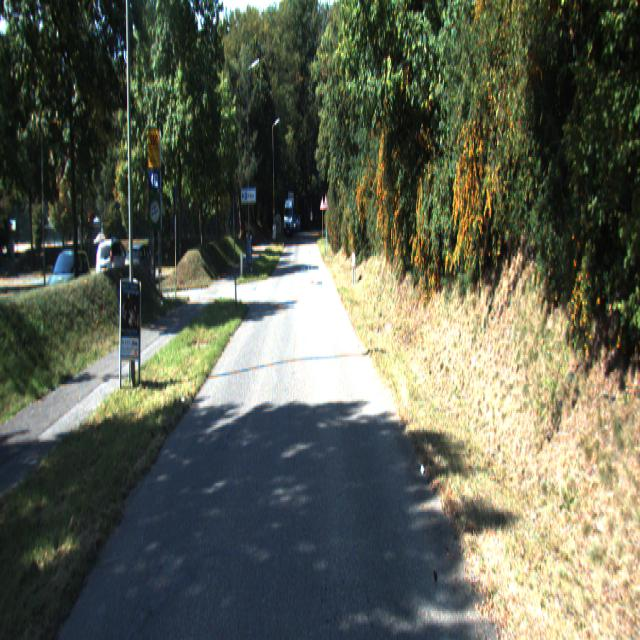Car: (43, 246, 96, 317), (95, 238, 132, 291), (124, 243, 156, 293)
